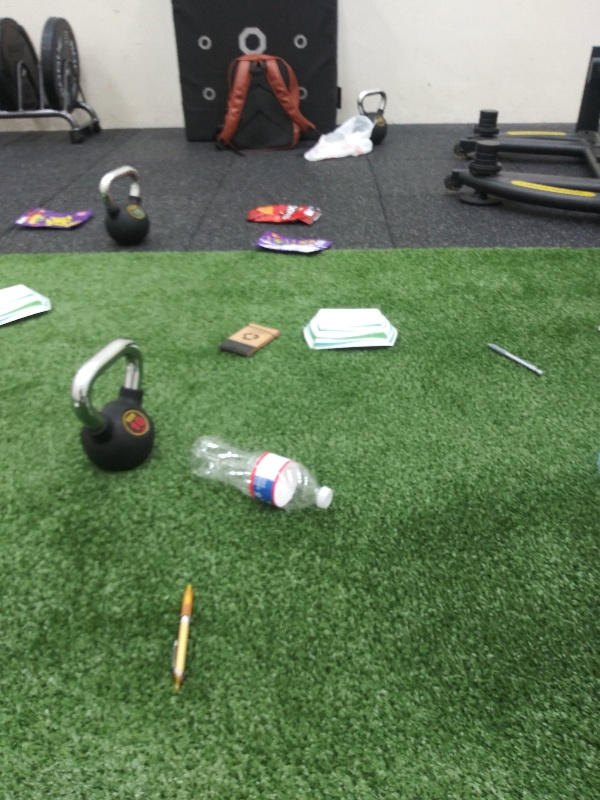bag: (248, 229, 333, 260), (10, 203, 93, 234), (243, 202, 324, 229)
bottle: (184, 432, 339, 518)
plate: (299, 305, 401, 353), (1, 281, 57, 333)
